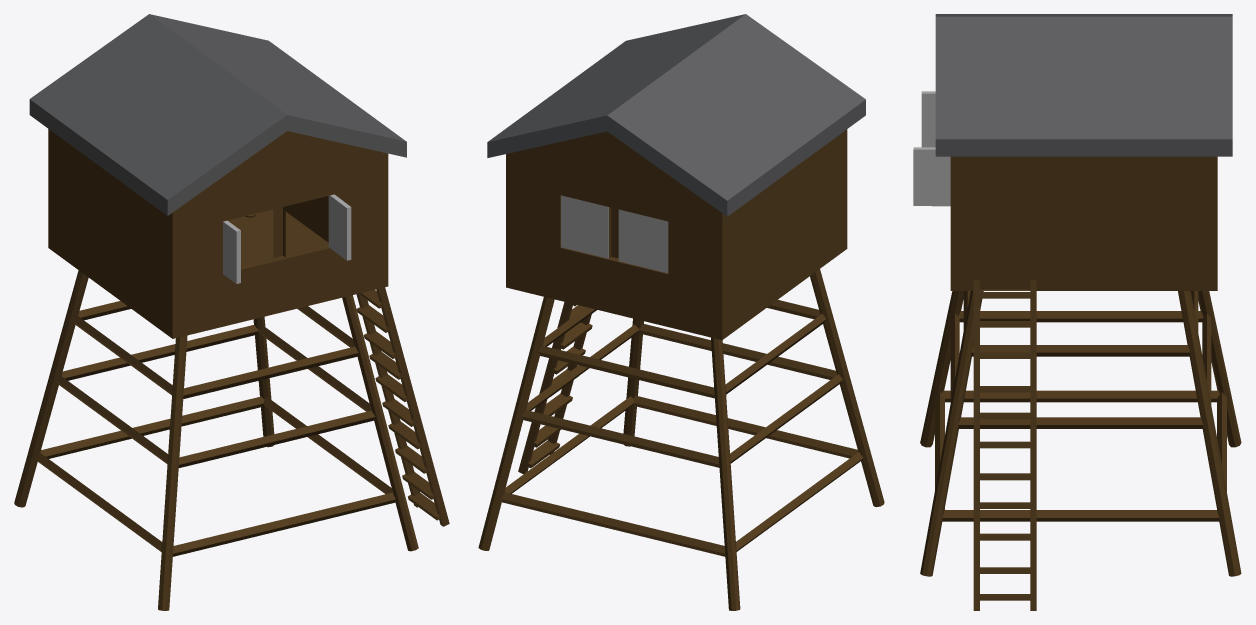
File: Lookout.fbx
3 views of the same model, side by side, from view 1: azimuth 30°, elevation 25°; view 2: azimuth 150°, elevation 25°; view 3: azimuth 270°, elevation 25° (orthographic). The views are drawn at different scales.
Parts seen in each view (by area): view 1: Cube; view 2: Cube; view 3: Cube.
Part boxes in pixels (<box>): Cube: <box>14,14,449,610</box>; Cube: <box>478,14,884,610</box>; Cube: <box>913,14,1241,610</box>.
Size of the model in its own units: 122 by 103 by 174.
